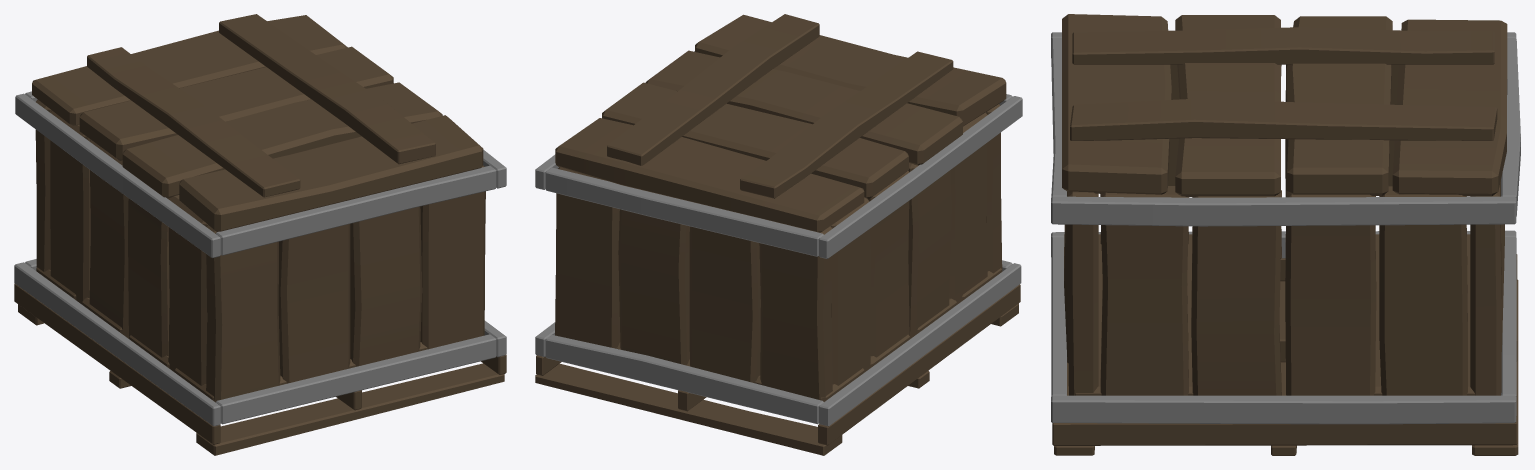
3 views of the same model, side by side, from view 1: azimuth 30°, elevation 25°; view 2: azimuth 150°, elevation 25°; view 3: azimuth 270°, elevation 25° (orthographic). The views are drawn at different scales.
Parts seen in each view (by area): view 1: Box_Small_LP; view 2: Box_Small_LP; view 3: Box_Small_LP.
Boxes of the visible parts, x1,y1,x2,y2 form: Box_Small_LP: (14, 14, 506, 455); Box_Small_LP: (535, 14, 1022, 455); Box_Small_LP: (1051, 14, 1520, 455).
Bounding box in the file's own units: 167 × 137 × 192.
